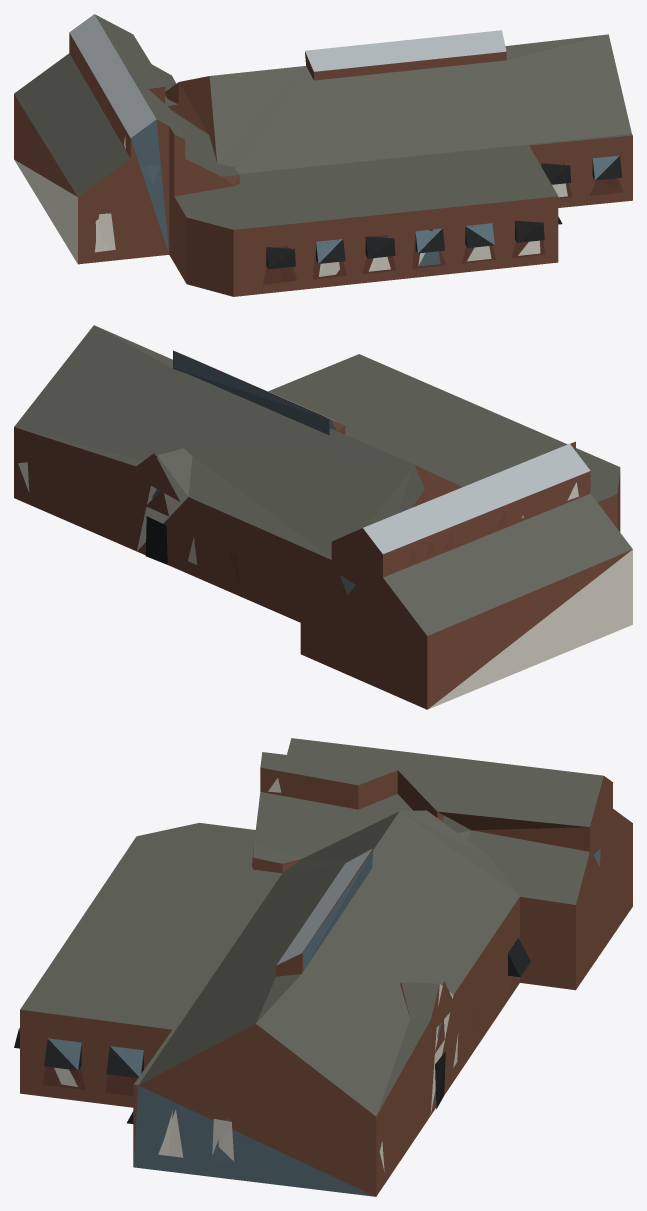
Rendered from club-panama.lod2.glb.
3 renders of one model, top to bottom at view 1: azimuth 30°, elevation 25°; view 2: azimuth 150°, elevation 25°; view 3: azimuth 270°, elevation 25°, orthographic. The views are drawn at different scales.
Parts seen in each view (by area): view 1: lod2; view 2: lod2; view 3: lod2.
Boxes of the visible parts, x1,y1,x2,y2 form: lod2: (14, 14, 632, 296); lod2: (14, 325, 632, 709); lod2: (14, 738, 632, 1196).
Bounding box in the file's own units: 50.05 × 12.45 × 40.
